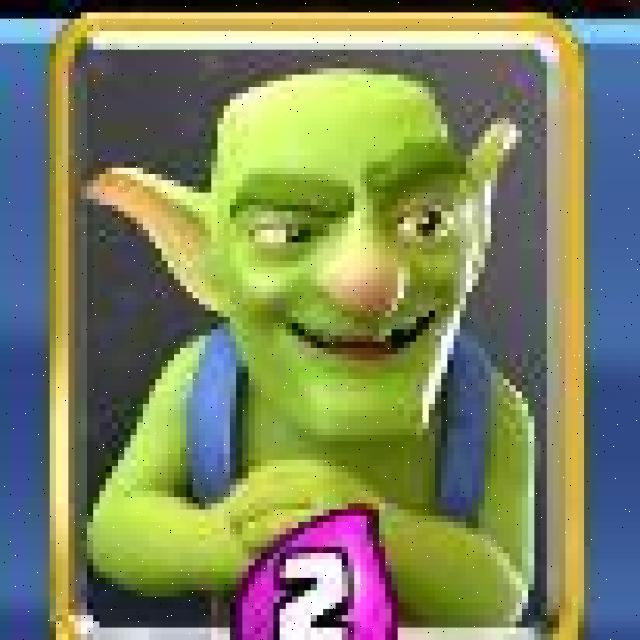Goblins: (51, 13, 584, 640)
